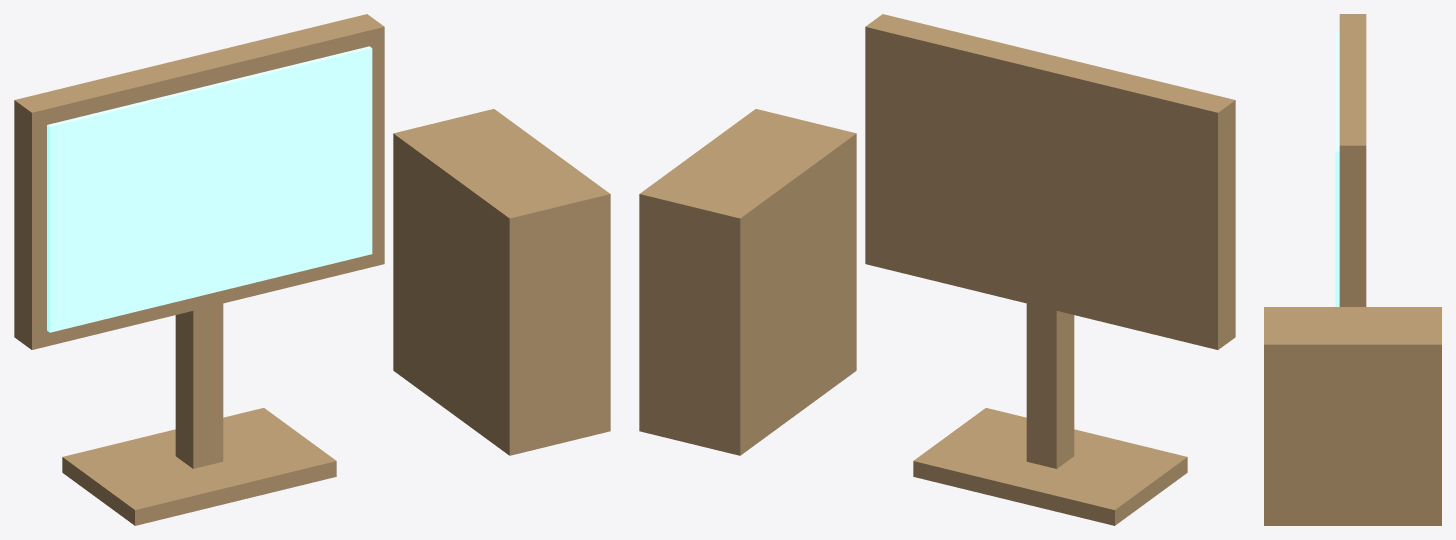
The model's file is computer7.glb.
3 renders of one model, left to right at view 1: azimuth 30°, elevation 25°; view 2: azimuth 150°, elevation 25°; view 3: azimuth 270°, elevation 25°, orthographic. The views are drawn at different scales.
Size of the model in its own units: 1.05 by 0.78 by 0.4.
